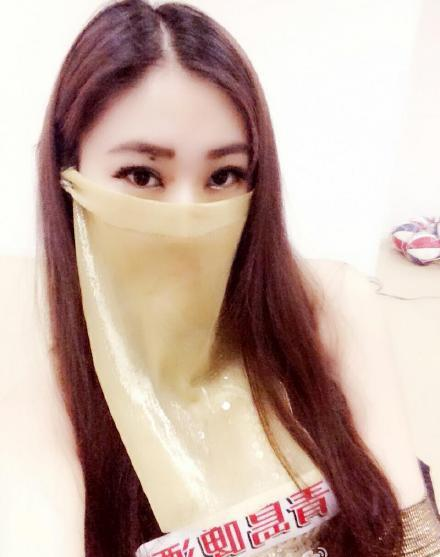OK: (84, 127, 265, 308)
